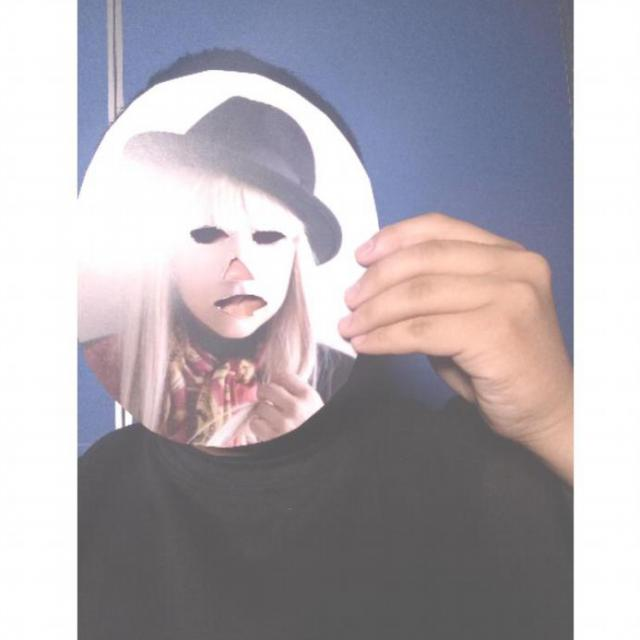mask: (80, 68, 386, 454)
